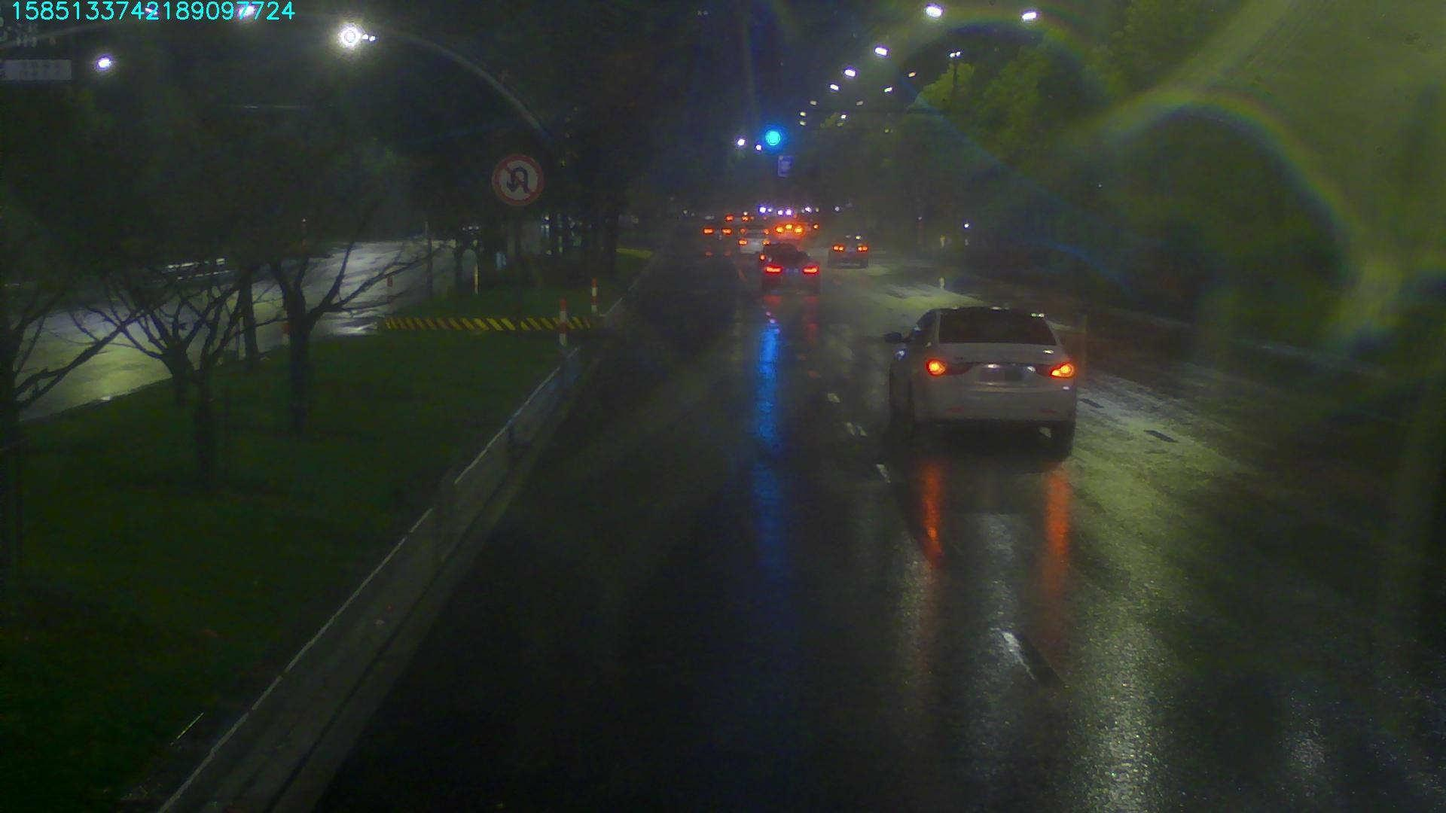green: (758, 123, 790, 154)
